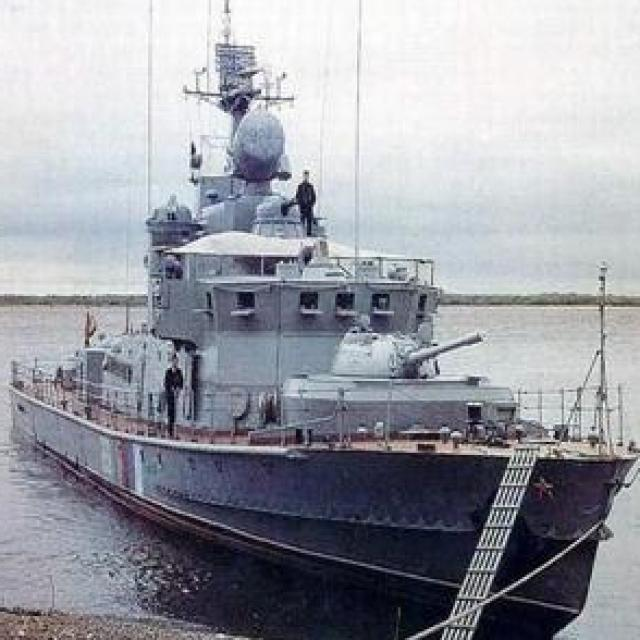navalvessels: (13, 22, 637, 622)
